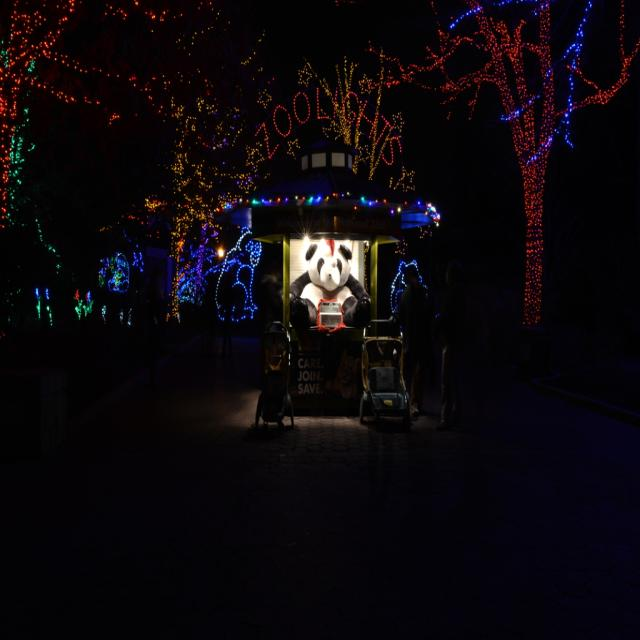panda: (292, 244, 372, 324)
